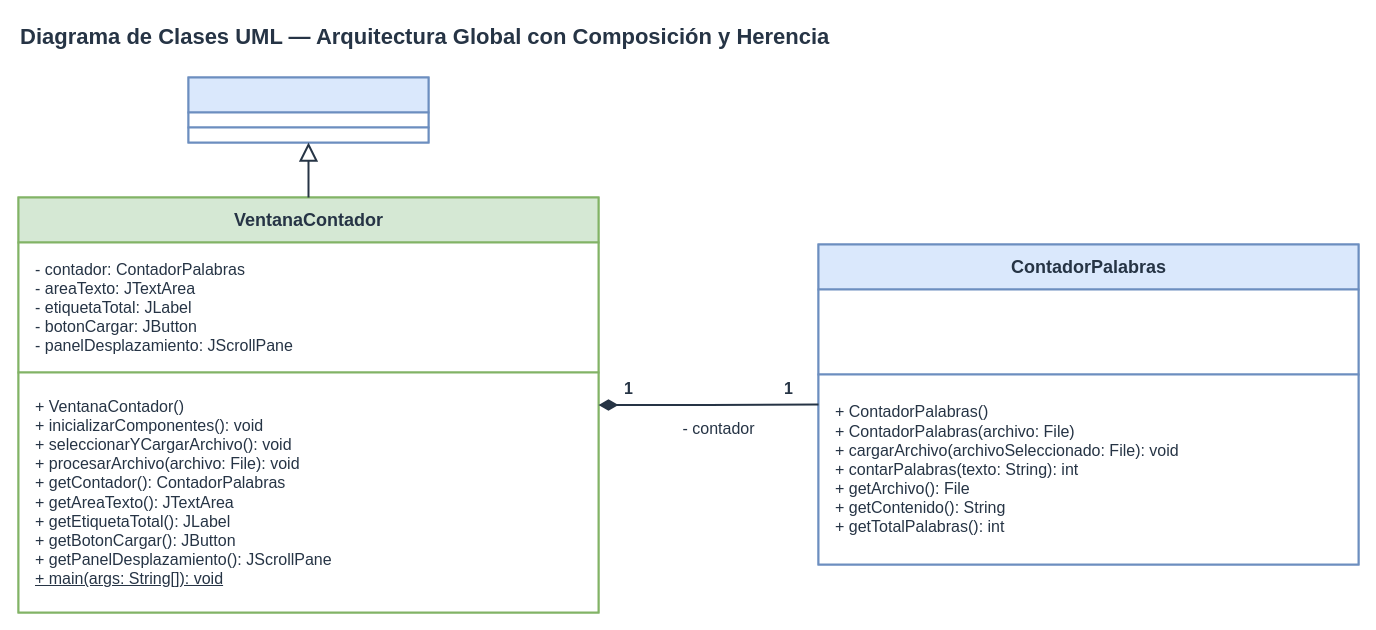
This 1376x630 diagram has some shape labels left out. The box of each missing label's shape, as (x1, y1, x2, y2) in pixels:
- archivo: File - contenido: String - totalPalabras: int: (817, 288, 1359, 375)
JFrame: (187, 76, 429, 113)
